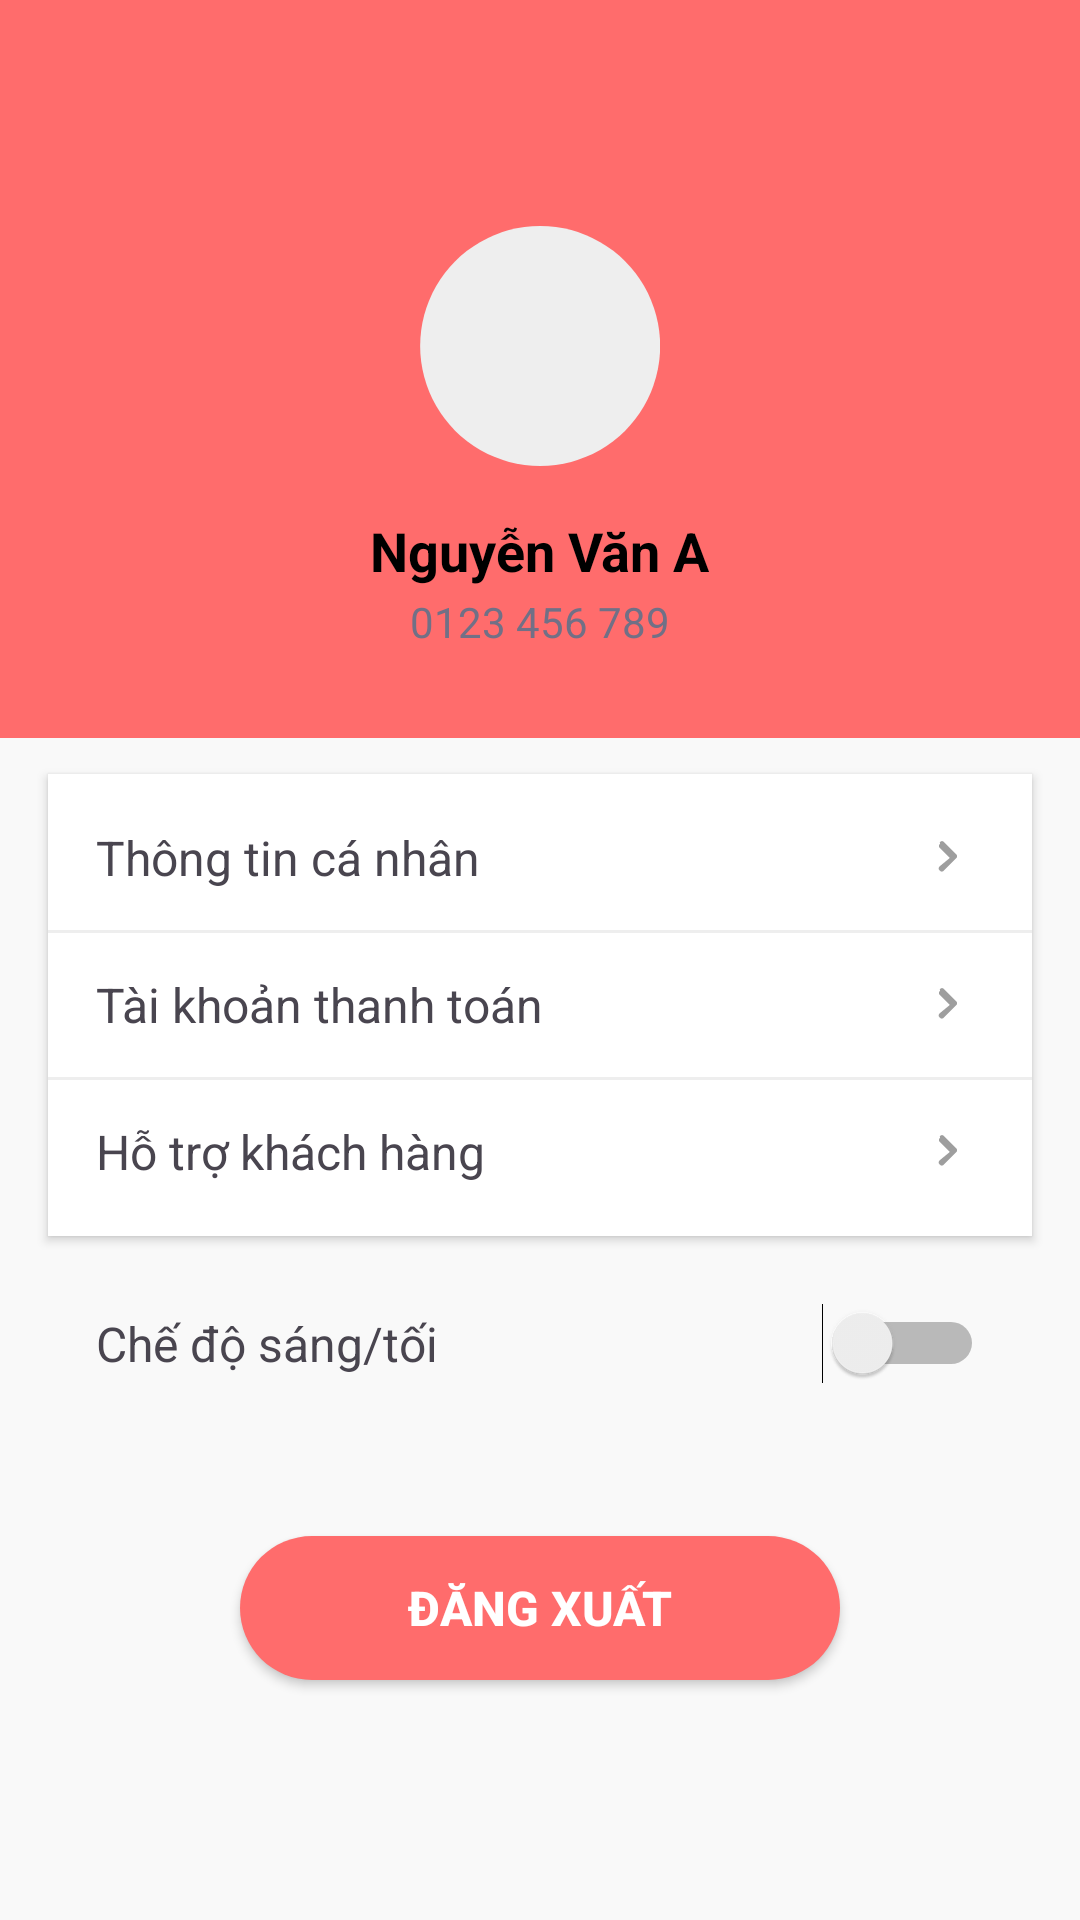

Icon click points for this 1080w x 1920h phone screenshot, format point (x, y):
arrow right: point (947, 856), point (947, 1003), point (947, 1150)
